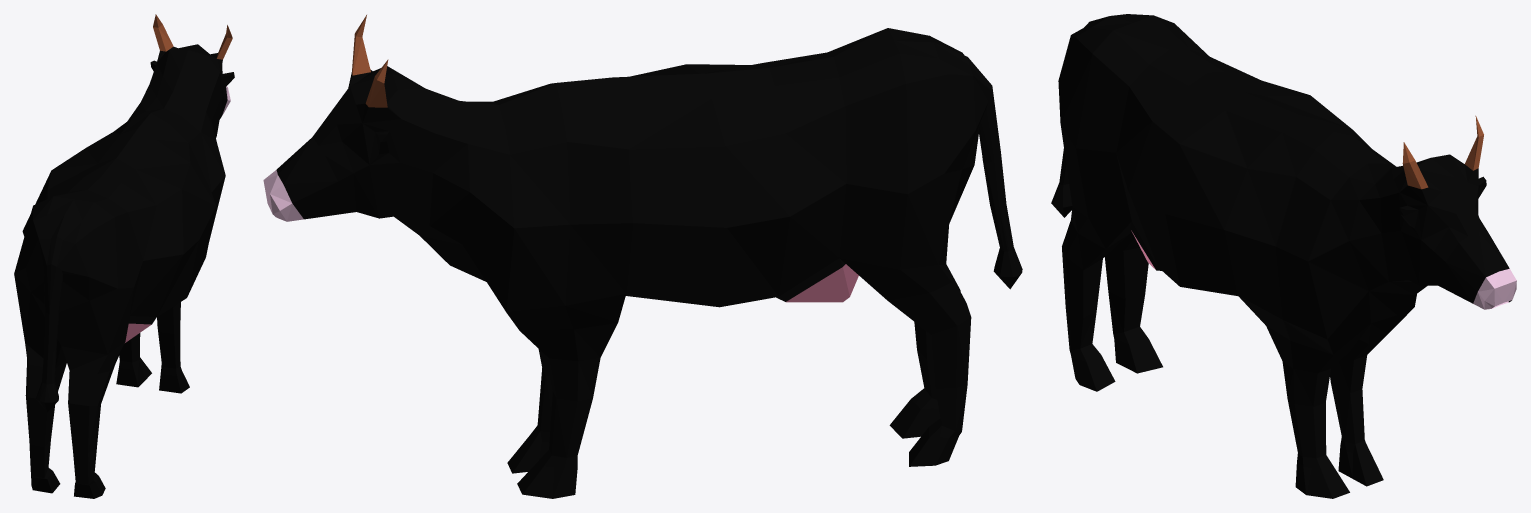
The model's file is Cow1.fbx.
3 renders of one model, left to right at view 1: azimuth 30°, elevation 25°; view 2: azimuth 150°, elevation 25°; view 3: azimuth 270°, elevation 25°, orthographic. The views are drawn at different scales.
Visible parts, largest first — view 1: Low poly COW; view 2: Low poly COW; view 3: Low poly COW.
Part boxes in pixels (bbox=[...]): Low poly COW: bbox=[14, 14, 234, 498]; Low poly COW: bbox=[263, 15, 1022, 498]; Low poly COW: bbox=[1051, 14, 1516, 498].
Bounding box in the file's own units: 50.36 × 42.4 × 44.69.
